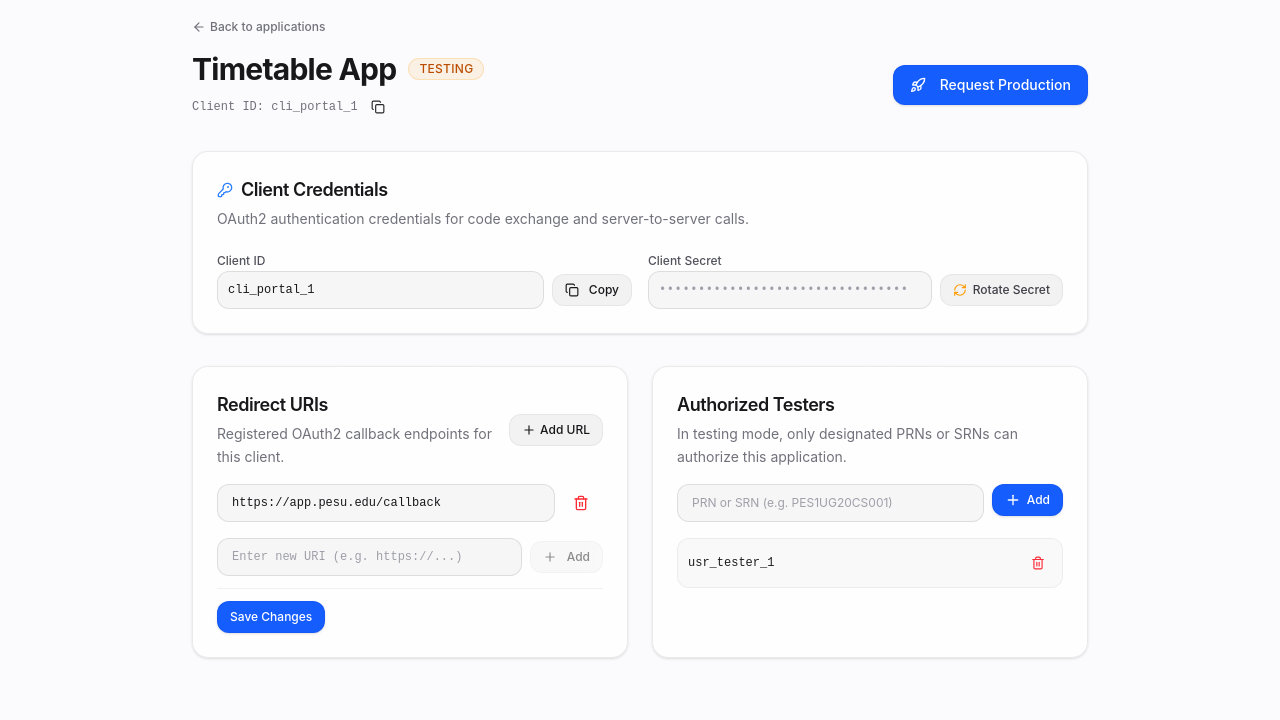
ClientDetailPage Component › handles adding URL row, editing URI, and removing URI row
Expected: the heading "Timetable App" is shown, [192,51,396,87]
# Click "Add URL" button to add an empty row
Click the button "Add URL" at point(556, 430), box [509,414,603,446]
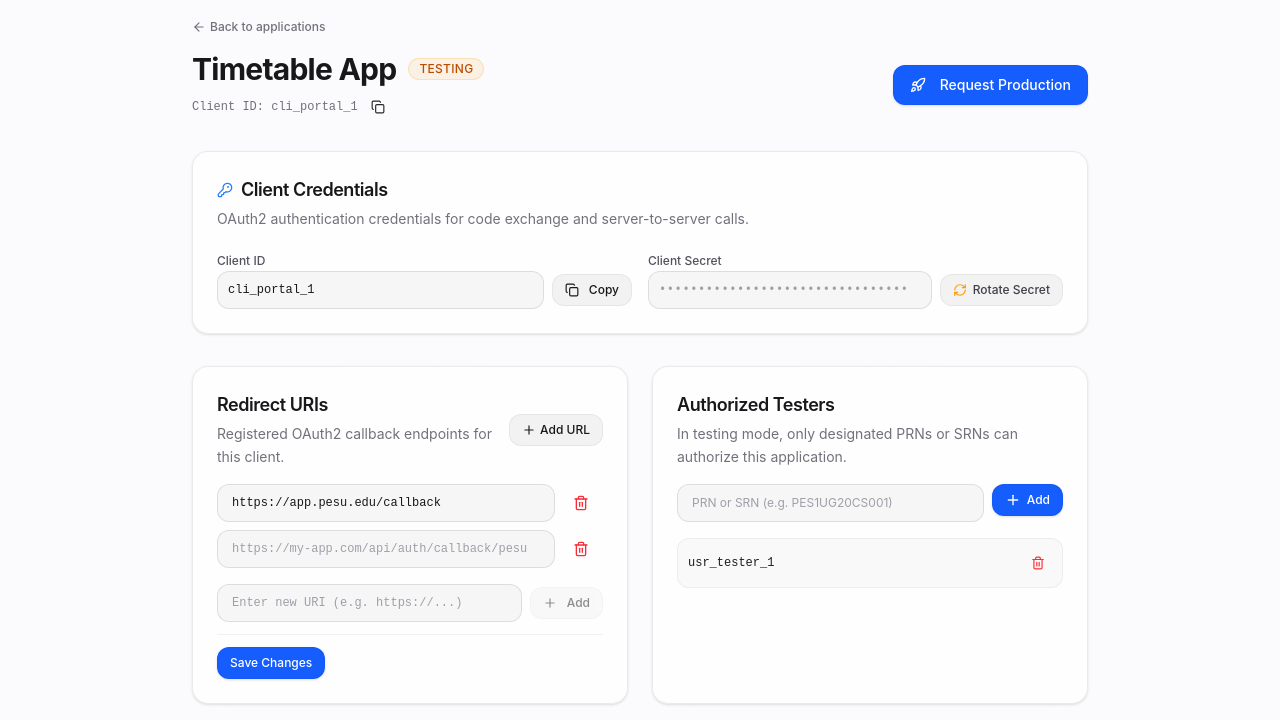
Expected: the number of fields with placeholder "https://my-app.com/api/auth/callback/pesu" is 2
# Edit the new row input
Type "https://newapp.pesu.edu/callback" into the field with placeholder "https://my-app.com/api/auth/callback/pesu" at point(386, 549), box [217,530,555,568]
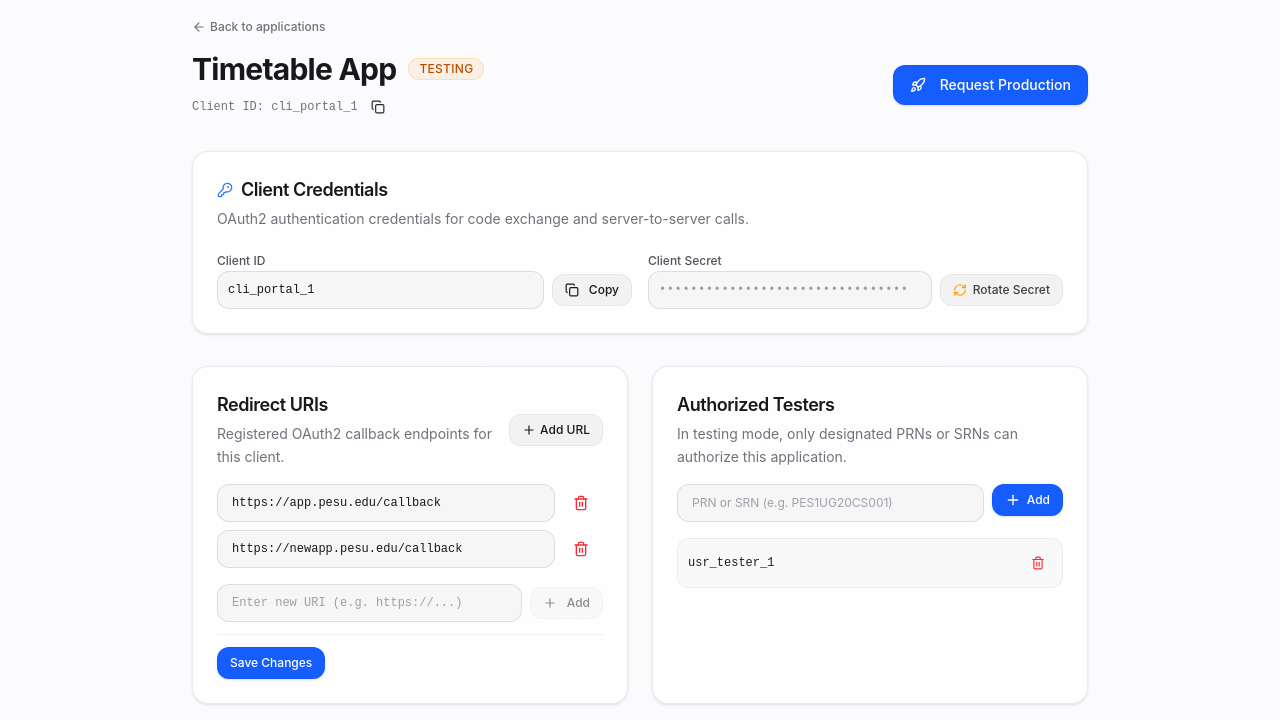
# Click remove button on the first row
Click the 1st button titled "Remove URL" at point(581, 503), box [563,485,599,521]
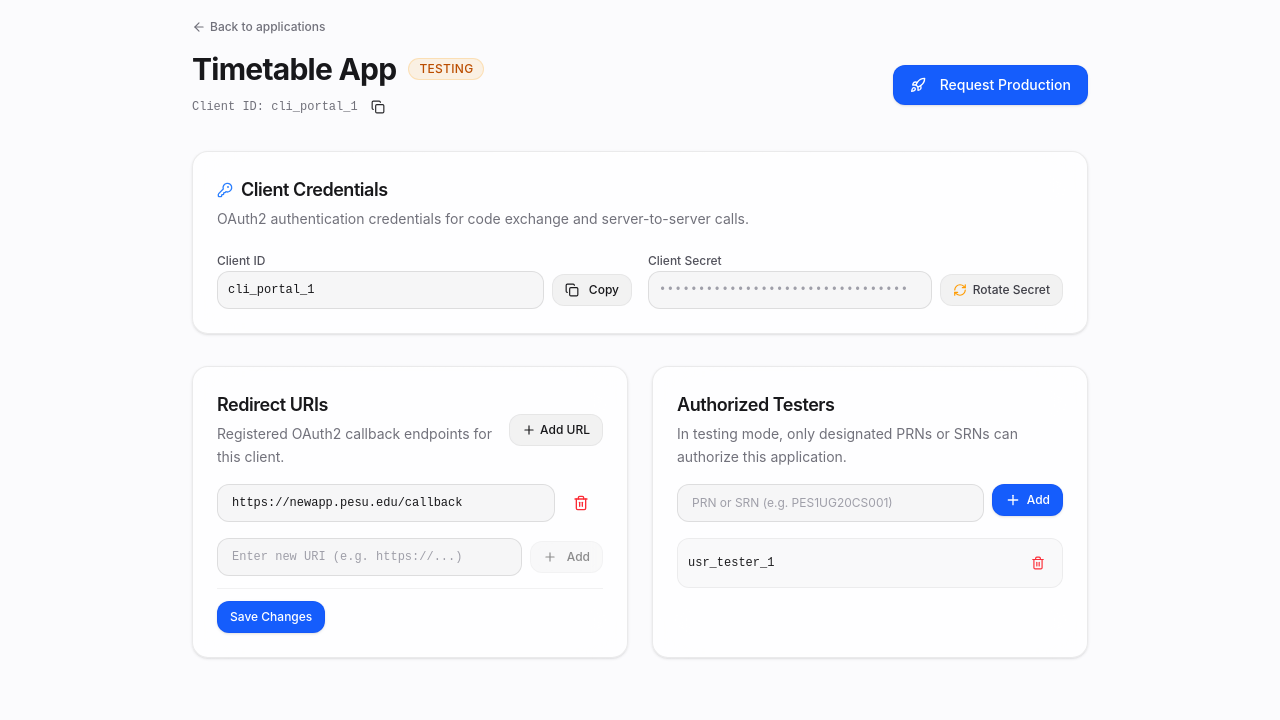
Expected: the number of fields with placeholder "https://my-app.com/api/auth/callback/pesu" is 1, [217,484,555,522]
Expected: the field with placeholder "https://my-app.com/api/auth/callback/pesu" holds "https://newapp.pesu.edu/callback", [217,484,555,522]
# Remove the last row to show empty state
Click the button titled "Remove URL" at point(581, 503), box [563,485,599,521]
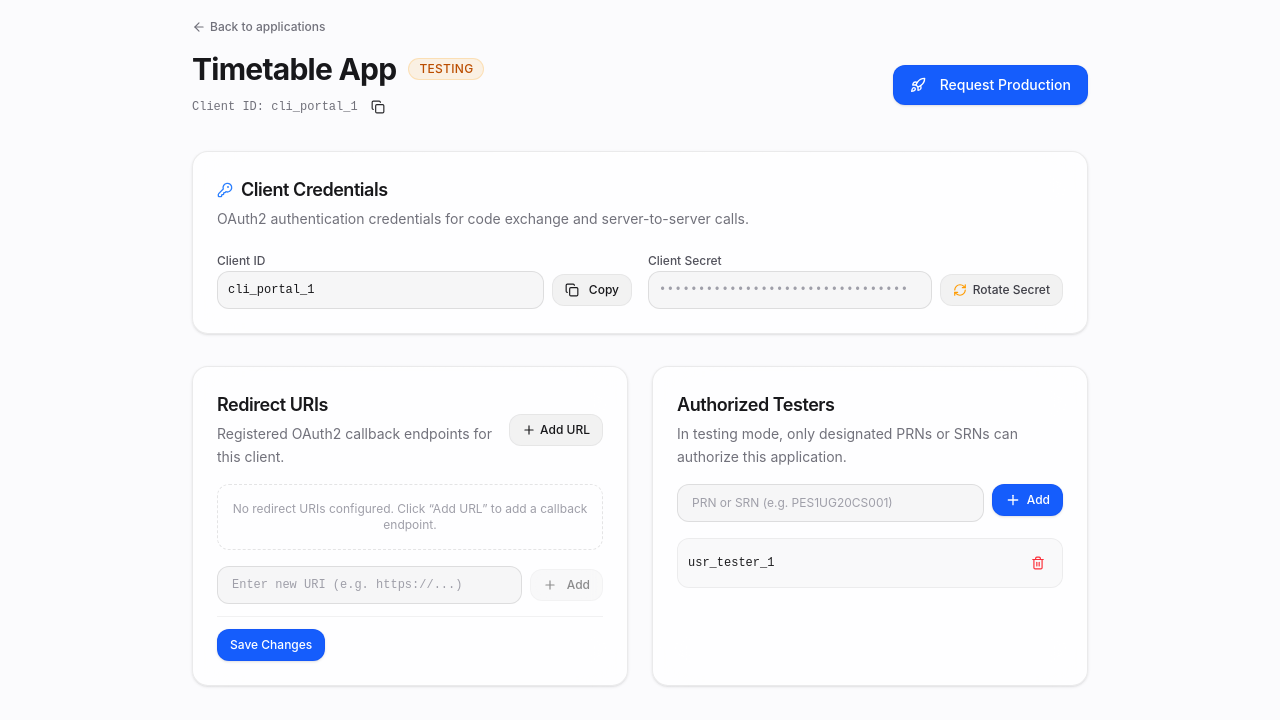
Expected: the text "No redirect URIs configured" is shown, [233,501,587,532]
